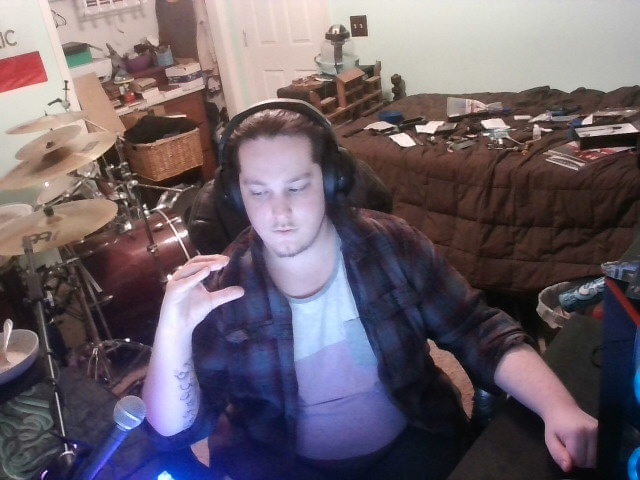drink: (148, 241, 262, 338)
